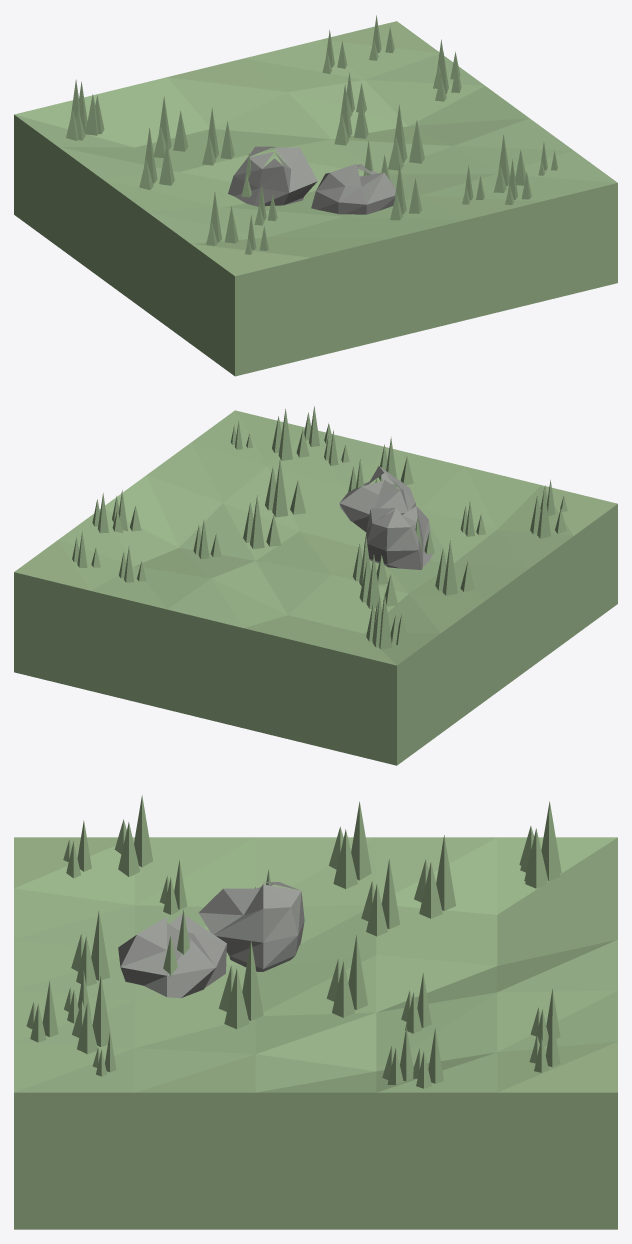
Rendered from lighthouse-and-rocky-coast-cliff-top-grass-module-05e7110d__36608.glb.
3 renders of one model, top to bottom at view 1: azimuth 30°, elevation 25°; view 2: azimuth 150°, elevation 25°; view 3: azimuth 270°, elevation 25°, orthographic. The views are drawn at different scales.
Parts seen in each view (by area): view 1: cliff-top-grass-module; view 2: cliff-top-grass-module; view 3: cliff-top-grass-module.
Boxes of the visible parts, x1,y1,x2,y2 form: cliff-top-grass-module: (14,15,617,376); cliff-top-grass-module: (14,406,617,765); cliff-top-grass-module: (14,795,617,1229).
Size of the model in its own units: 6 by 2.22 by 6.
